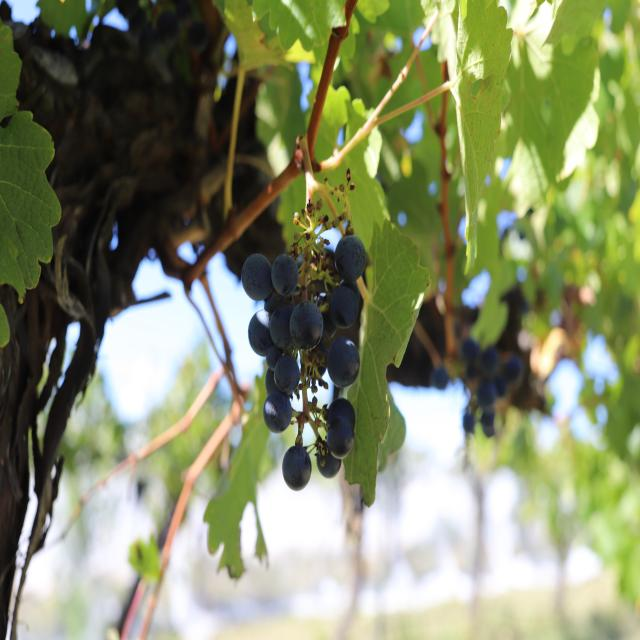grapes: (241, 204, 366, 490), (460, 338, 524, 437)
